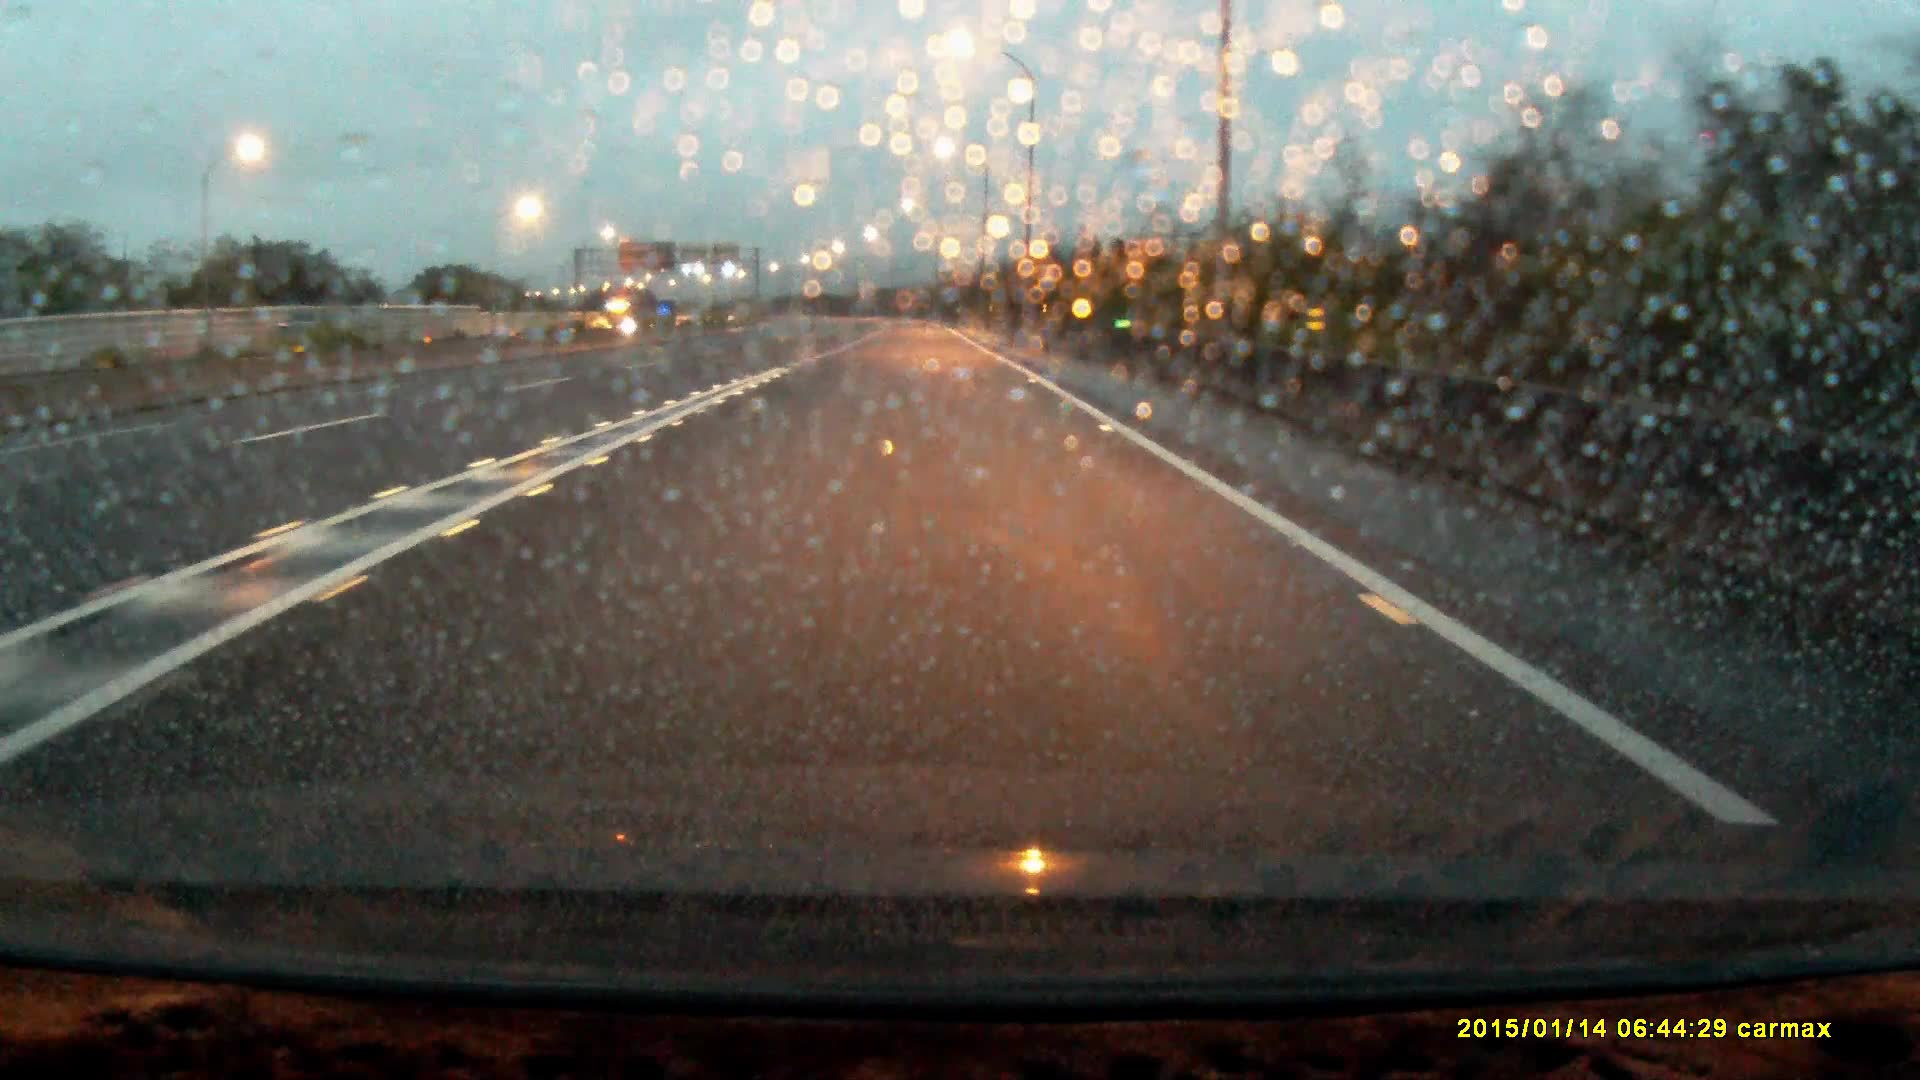vehicle: (603, 295, 640, 336)
